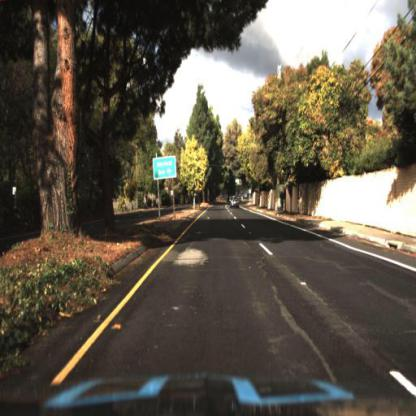car: (231, 198, 241, 210)
pedestrian: (280, 190, 286, 215)
